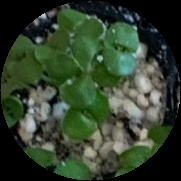Basil: (28, 147, 92, 181), (78, 32, 115, 90), (63, 95, 109, 139), (49, 54, 86, 106), (9, 37, 46, 87), (109, 24, 140, 76), (56, 9, 105, 36)
